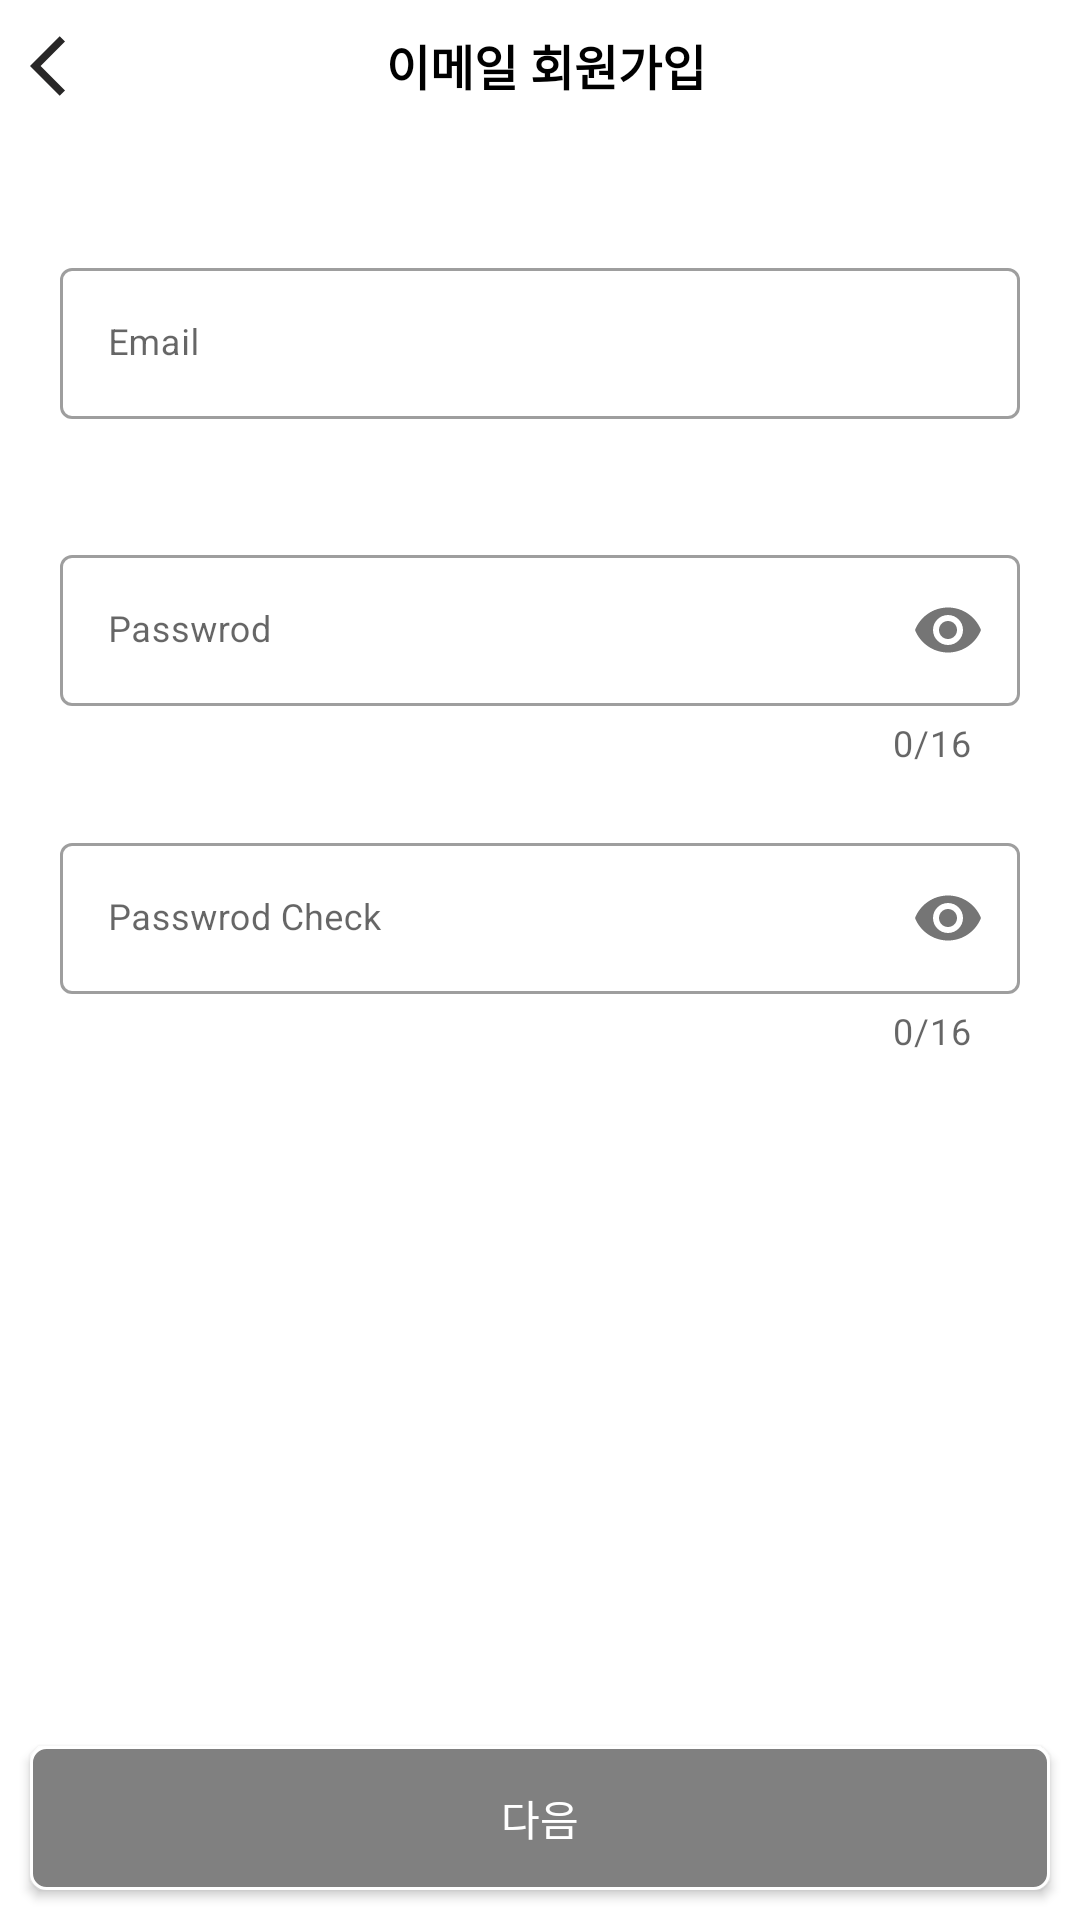

Where icons sit on this 1080 x 1920 app screen, as box=[x1, y1, x2, y2]:
back: box=[30, 36, 65, 96]
